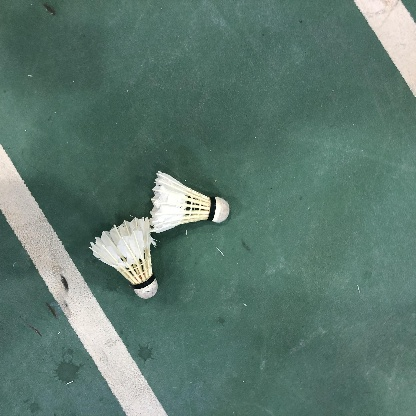ball_single: (90, 217, 158, 299), (148, 171, 230, 233)
